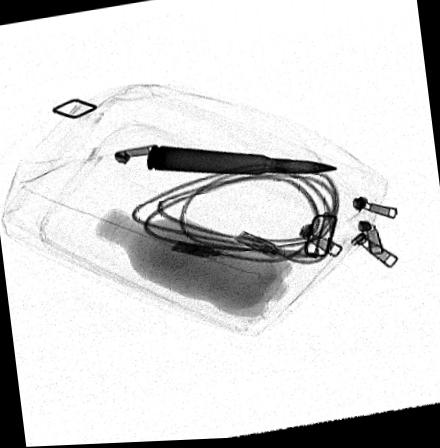Bullet: (146, 145, 340, 178)
